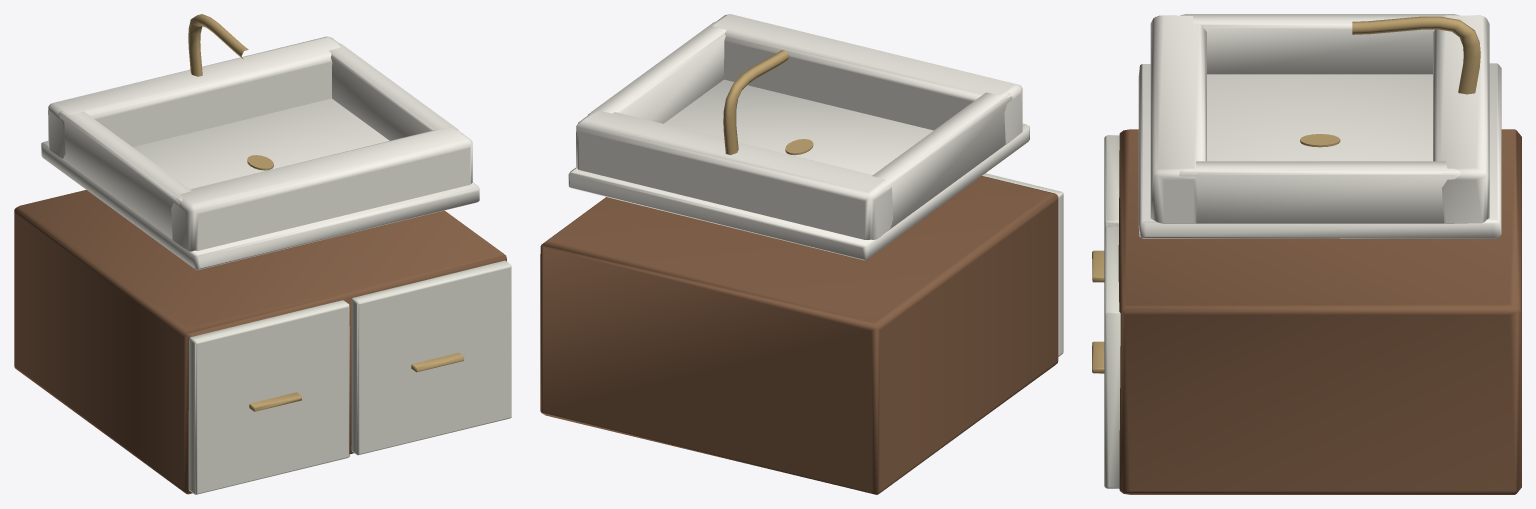
Rendered from sink-13-0.lod.glb.
The picture shows the model from 3 angles, left to right: view 1: azimuth 30°, elevation 25°; view 2: azimuth 150°, elevation 25°; view 3: azimuth 270°, elevation 25°; orthographic projection. The views are drawn at different scales.
Visible parts, largest first — view 1: upholstery (×4); view 2: upholstery (×4); view 3: upholstery (×4).
Part boxes in pixels (x1,y1,x2,y2): upholstery (×4): (14,14,511,494); upholstery (×4): (540,14,1063,494); upholstery (×4): (1092,14,1521,494).
Size of the model in its own units: 1 by 1 by 1.
